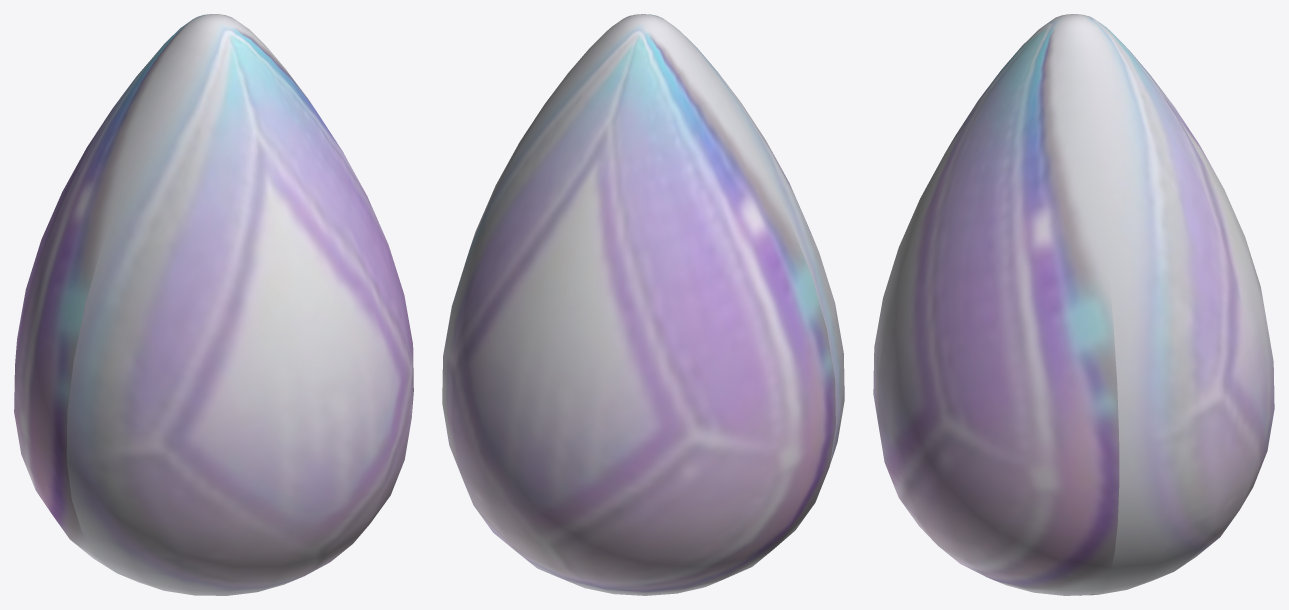
Rendered from tears.obj.
The picture shows the model from 3 angles, left to right: view 1: azimuth 30°, elevation 25°; view 2: azimuth 150°, elevation 25°; view 3: azimuth 270°, elevation 25°; orthographic projection.
Visible parts, largest first — view 1: Object002, Object; view 2: Object, Object002, pSphere1; view 3: Object002, Object.
Boxes of the visible parts, <box> form: Object002: <box>66,17,413,595</box>; Object: <box>14,14,216,572</box>; Object: <box>442,21,835,595</box>; Object002: <box>607,14,844,466</box>; pSphere1: <box>605,15,679,45</box>; Object002: <box>873,15,1119,595</box>; Object: <box>1080,14,1274,594</box>.
Size of the model in its own units: 0.2328 by 0.3565 by 0.2328.
